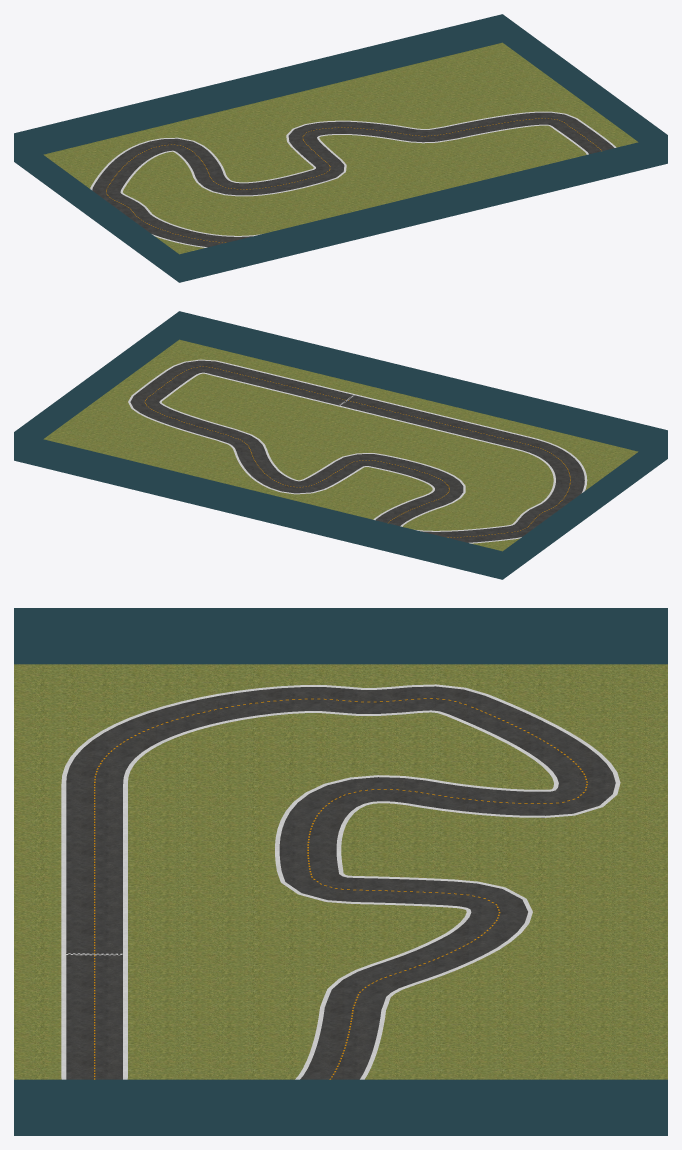
File: jyllandsringen_open_cw.dae
The picture shows the model from 3 angles, top to bottom: view 1: azimuth 30°, elevation 25°; view 2: azimuth 150°, elevation 25°; view 3: azimuth 270°, elevation 25°; orthographic projection. The views are drawn at different scales.
Parts seen in each view (by area): view 1: field, wall, road, il, ol, cl; view 2: field, wall, road, il, ol, cl; view 3: field, wall, road, ol, il, cl.
Boxes of the visible parts, <box> form: field: <box>43,42,638,254</box>; wall: <box>14,14,667,282</box>; road: <box>92,112,614,247</box>; il: <box>120,124,588,236</box>; ol: <box>90,111,616,247</box>; cl: <box>106,118,601,242</box>; field: <box>43,339,638,551</box>; wall: <box>14,311,667,579</box>; road: <box>130,360,584,542</box>; il: <box>159,372,555,531</box>; ol: <box>128,359,587,543</box>; cl: <box>144,366,570,537</box>; field: <box>14,664,667,1079</box>; wall: <box>14,608,667,1135</box>; road: <box>66,686,615,1079</box>; ol: <box>61,684,620,1079</box>; il: <box>123,710,558,1079</box>; cl: <box>94,698,587,1079</box>.
Size of the model in its own units: 17.92 by 10.5 by 1.
Materials: 7 (7 with a texture image).
